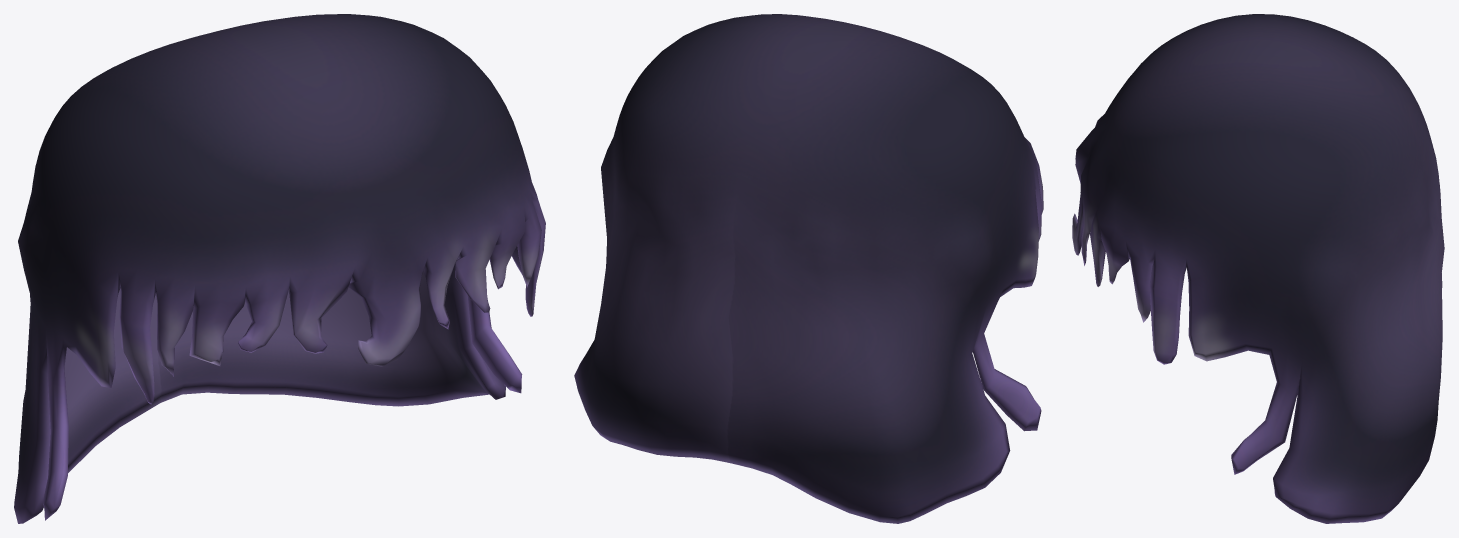
Rendered from OG_Frosted_Purple.glb.
3 views of the same model, side by side, from view 1: azimuth 30°, elevation 25°; view 2: azimuth 150°, elevation 25°; view 3: azimuth 270°, elevation 25° (orthographic). The views are drawn at different scales.
Parts seen in each view (by area): view 1: OG_Frosted_Purple; view 2: OG_Frosted_Purple; view 3: OG_Frosted_Purple.
Boxes of the visible parts, x1=… form: OG_Frosted_Purple: x1=14, y1=14, x2=545, y2=523; OG_Frosted_Purple: x1=574, y1=14, x2=1043, y2=523; OG_Frosted_Purple: x1=1072, y1=14, x2=1444, y2=523.
Size of the model in its own units: 1.07 by 0.9721 by 0.8194.
1 material, 1 textured.
